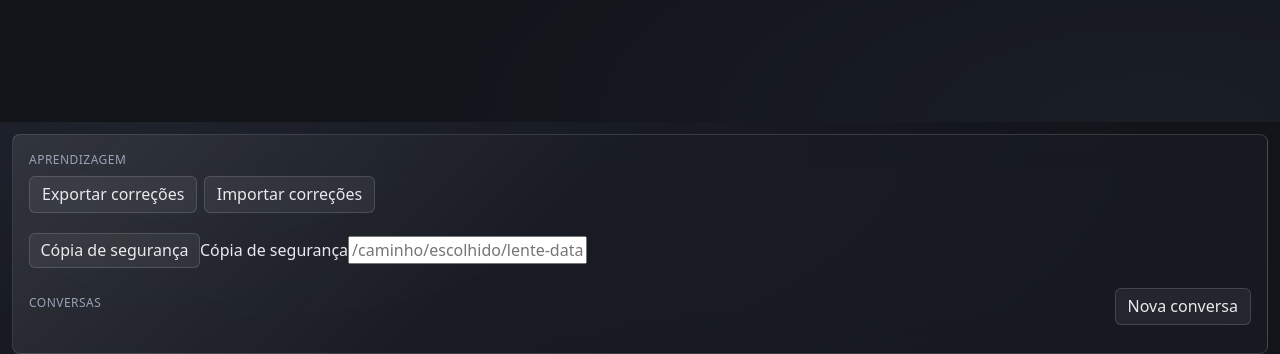
it: REG-CHT-001 › cria, renomeia e apaga uma conversa na lista
(page scrolled)
Click the button "Nova conversa". click: (1183, 306)
box: [1115, 288, 1251, 325]
(page scrolled)
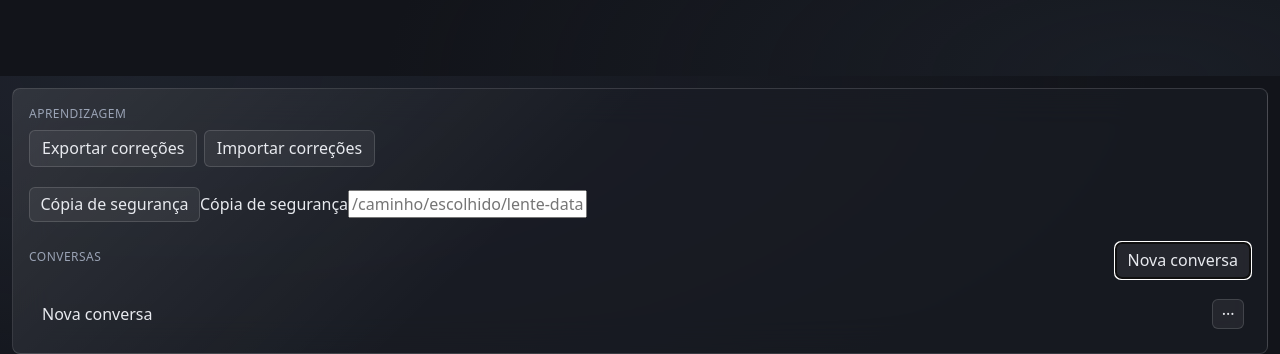
Expected: the number of list items is 1, [29, 291, 1251, 337]
Click the button named "Menu da conversa". click: (1228, 314)
box: [1212, 299, 1244, 328]
(page scrolled)
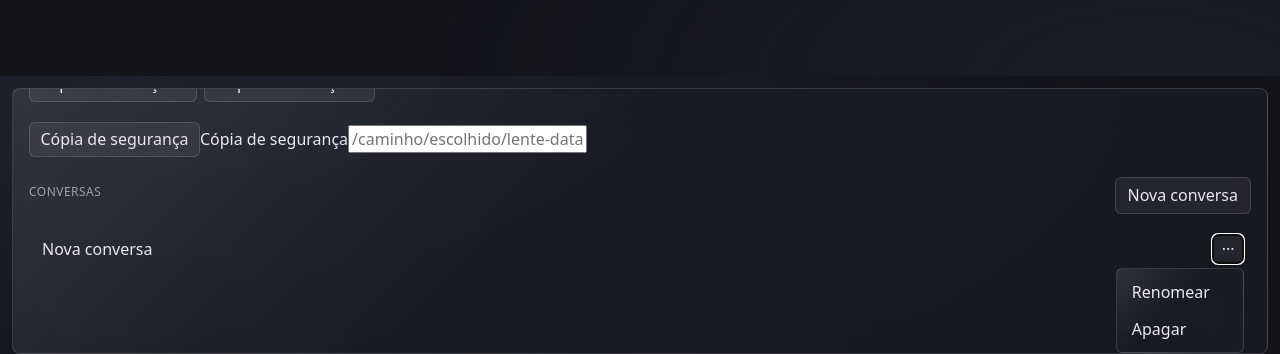
Click the menu item "Renomear". click: (1180, 292)
box: [1123, 274, 1238, 310]
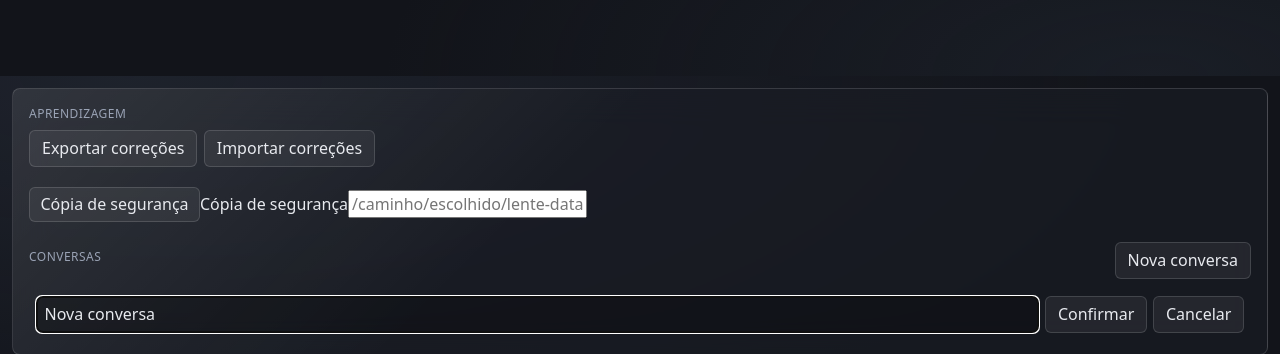
Replace the text in the field named "Renomear" with "Acesso remoto". click: (538, 314)
box: [36, 296, 1039, 333]
Click the button "Confirmar". click: (1096, 314)
box: [1045, 296, 1147, 333]
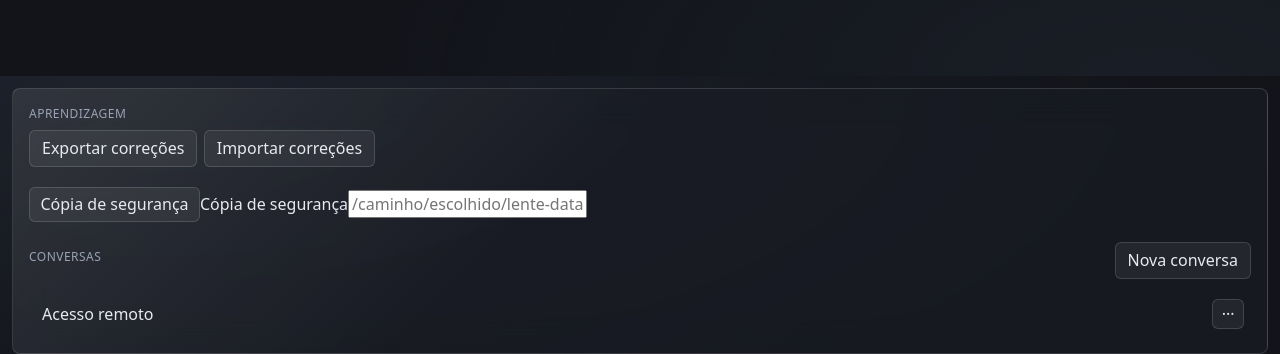
Expected: the button "Acesso remoto" is shown, [36, 296, 1208, 332]
Click the button named "Menu da conversa". click: (1228, 314)
box: [1212, 299, 1244, 328]
(page scrolled)
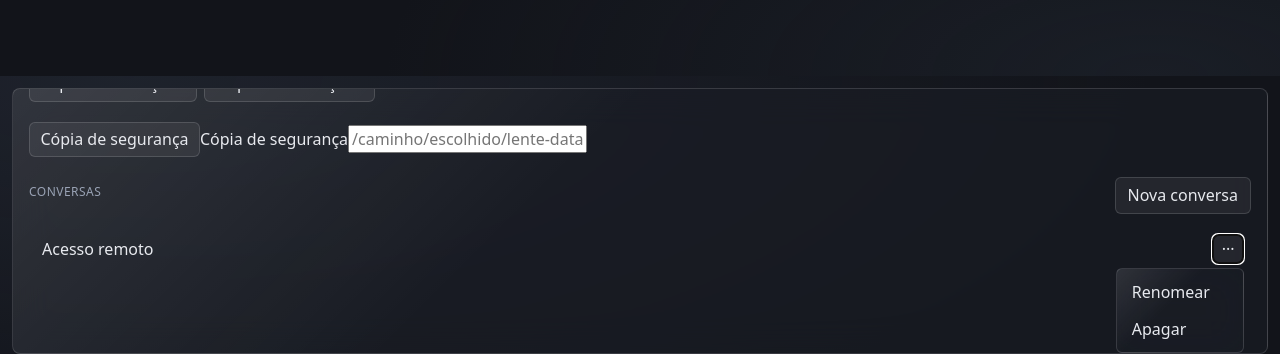
Click the menu item "Apagar". click: (1180, 329)
box: [1123, 310, 1238, 347]
(page scrolled)
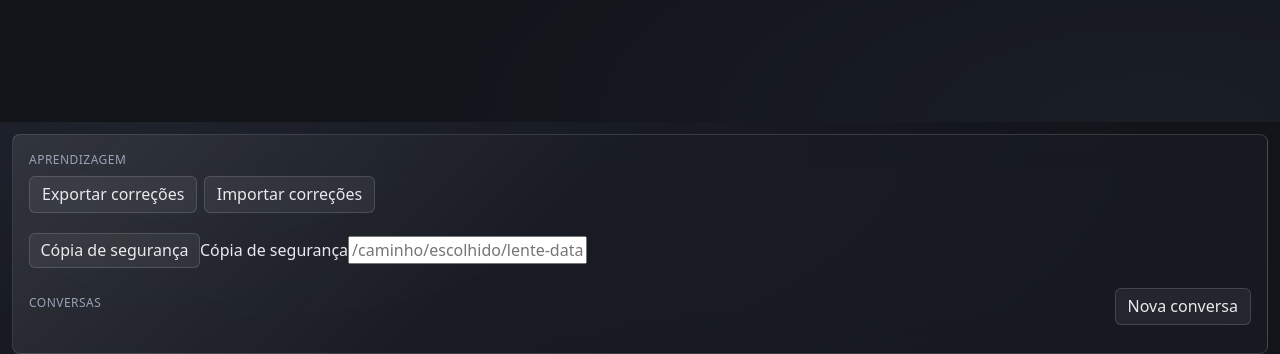
Expected: no list items are shown
